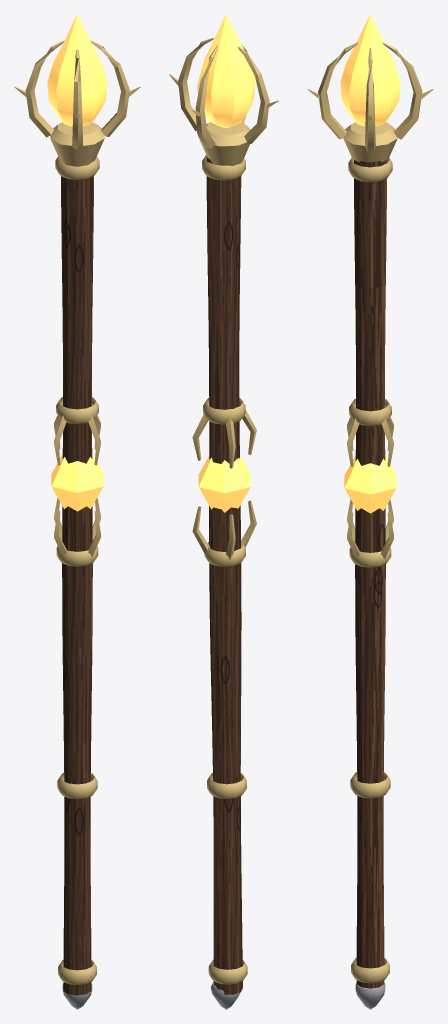
Rendered from cajado.glb.
The picture shows the model from 3 angles, left to right: view 1: azimuth 90°, elevation 25°; view 2: azimuth 150°, elevation 25°; view 3: azimuth 270°, elevation 25°; orthographic projection.
Parts seen in each view (by area): view 1: cajado; view 2: cajado; view 3: cajado.
Boxes of the visible parts, x1,y1,x2,y2 form: cajado: (14, 14, 140, 1009); cajado: (169, 14, 278, 1009); cajado: (307, 14, 433, 1009).
Bounding box in the file's own units: 0.1847 × 1.61 × 0.1847.
4 materials, 1 textured.
